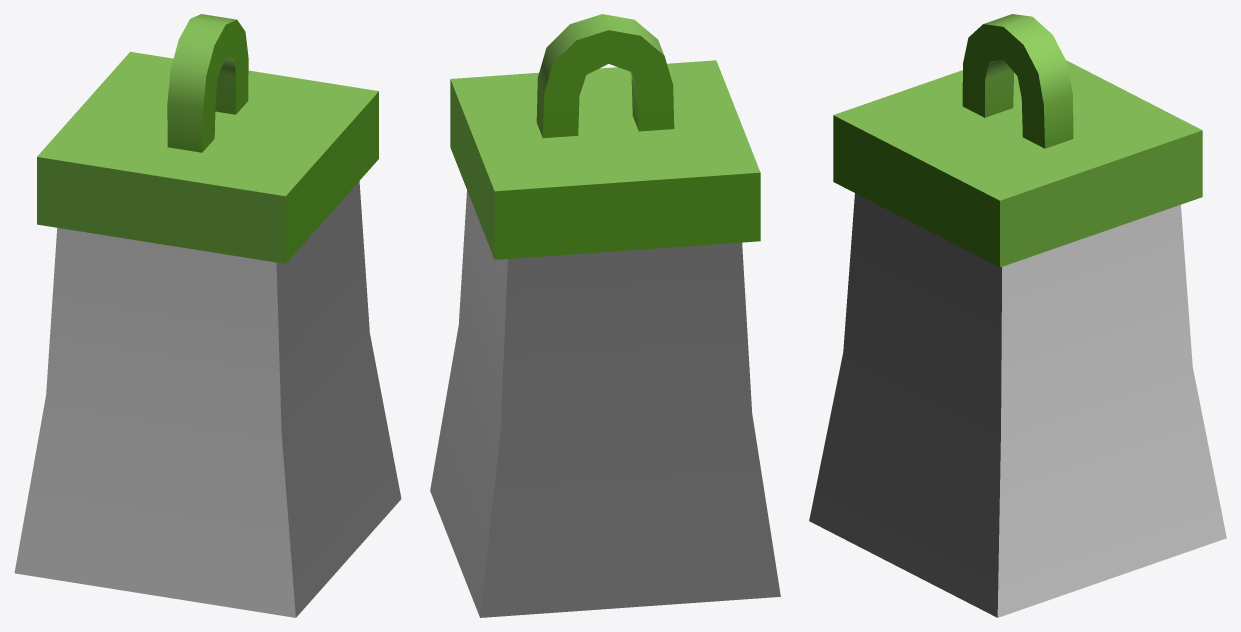
Rendered from RestaurantGrater.fbx.
3 views of the same model, side by side, from view 1: azimuth 30°, elevation 25°; view 2: azimuth 150°, elevation 25°; view 3: azimuth 270°, elevation 25° (orthographic). The views are drawn at different scales.
Visible parts, largest first — view 1: RestaurantGrater; view 2: RestaurantGrater; view 3: RestaurantGrater.
Boxes of the visible parts, <box> form: RestaurantGrater: <box>14,14,401,617</box>; RestaurantGrater: <box>430,14,780,617</box>; RestaurantGrater: <box>809,14,1226,617</box>.
Bounding box in the file's own units: 29.69 × 39.83 × 29.69.
